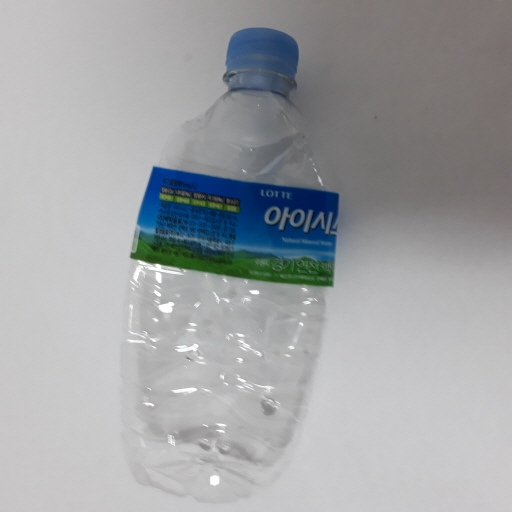Plastic_0: (111, 21, 346, 499)
